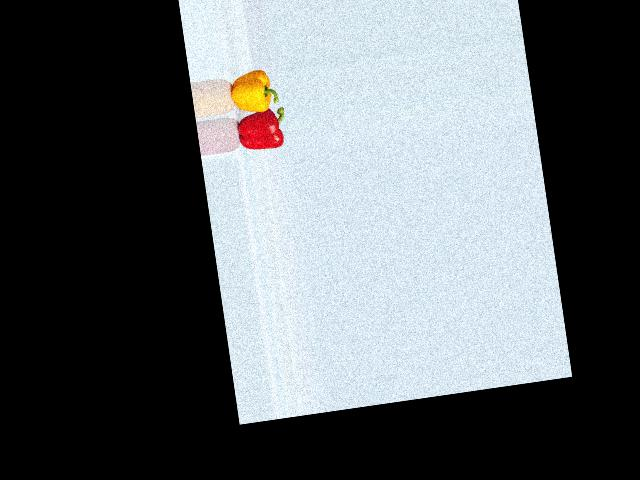bell_pepper: (230, 105, 288, 157)
